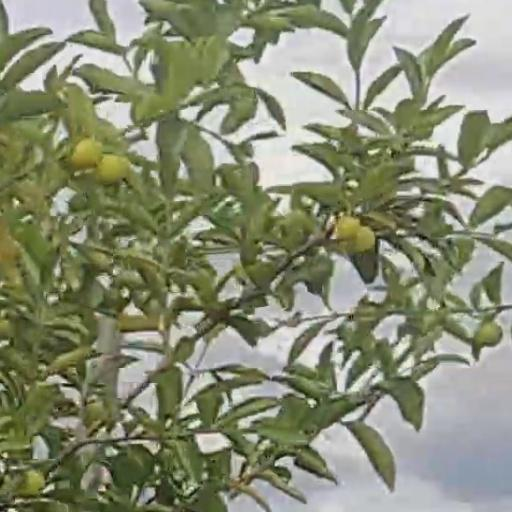acerola_verde: (109, 446, 153, 483), (98, 156, 128, 181), (347, 231, 375, 255), (69, 139, 97, 162), (477, 322, 502, 346), (336, 214, 356, 236)
